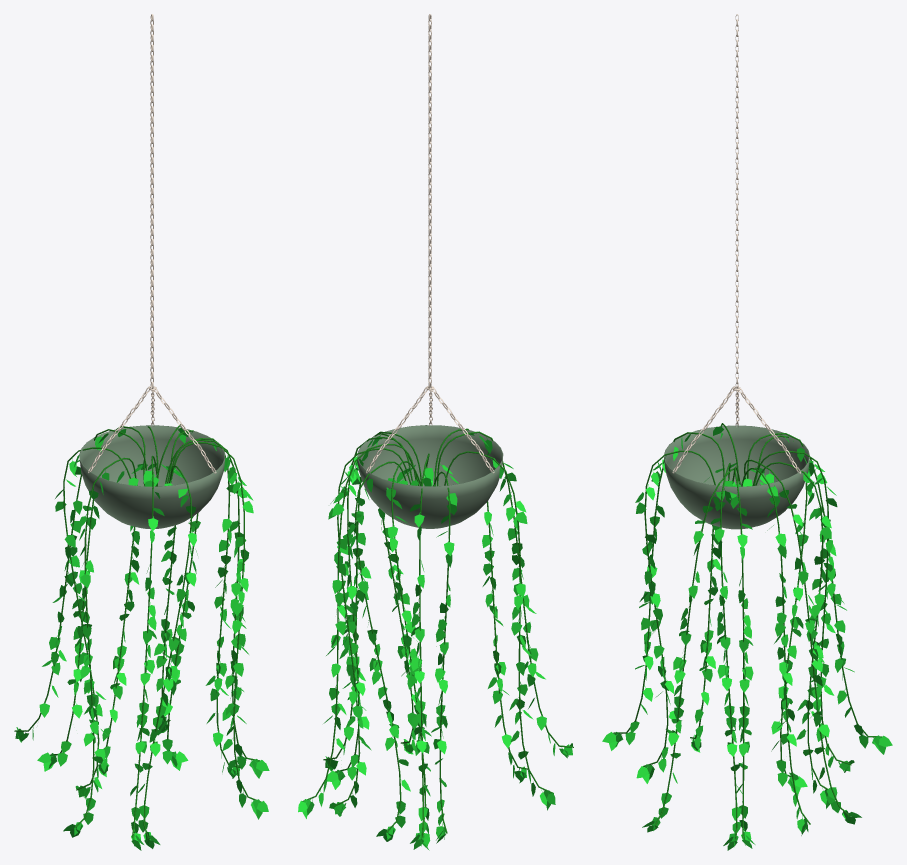
Rendered from HangingPot.fbx.
The picture shows the model from 3 angles, left to right: view 1: azimuth 30°, elevation 25°; view 2: azimuth 150°, elevation 25°; view 3: azimuth 270°, elevation 25°; orthographic projection.
Visible parts, largest first — view 1: BézierCurve, bowl, Chain; view 2: BézierCurve, bowl, Chain; view 3: BézierCurve, bowl, Chain.
Boxes of the visible parts, box(x1,y1,x2,y2) form: BézierCurve: box(14, 424, 269, 850); bowl: box(79, 425, 225, 529); Chain: box(88, 14, 216, 473); BézierCurve: box(298, 428, 573, 850); bowl: box(357, 425, 503, 528); Chain: box(366, 14, 494, 473); BézierCurve: box(602, 423, 892, 850); bowl: box(664, 425, 809, 529); Chain: box(672, 14, 800, 473).
Size of the model in its own units: 34.34 by 121 by 39.76.
